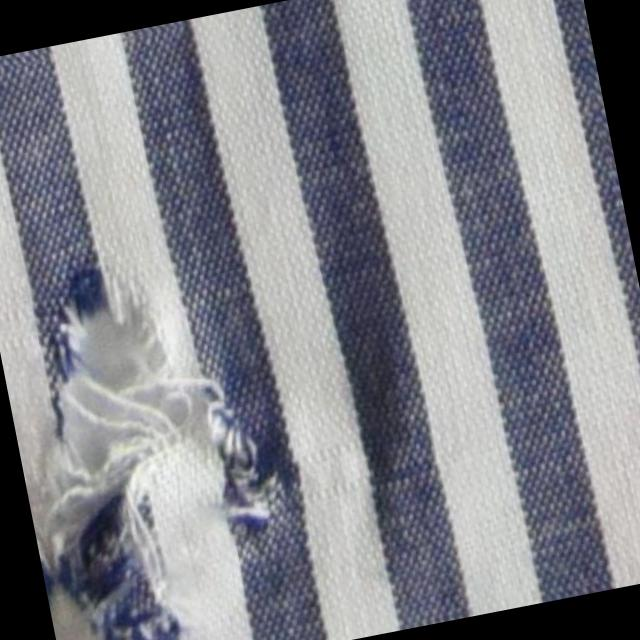cut: (4, 243, 279, 640)
